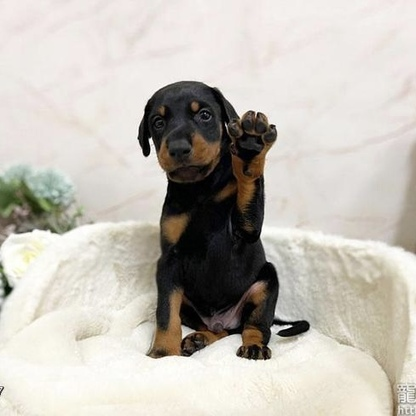doberman: (135, 78, 315, 365)
